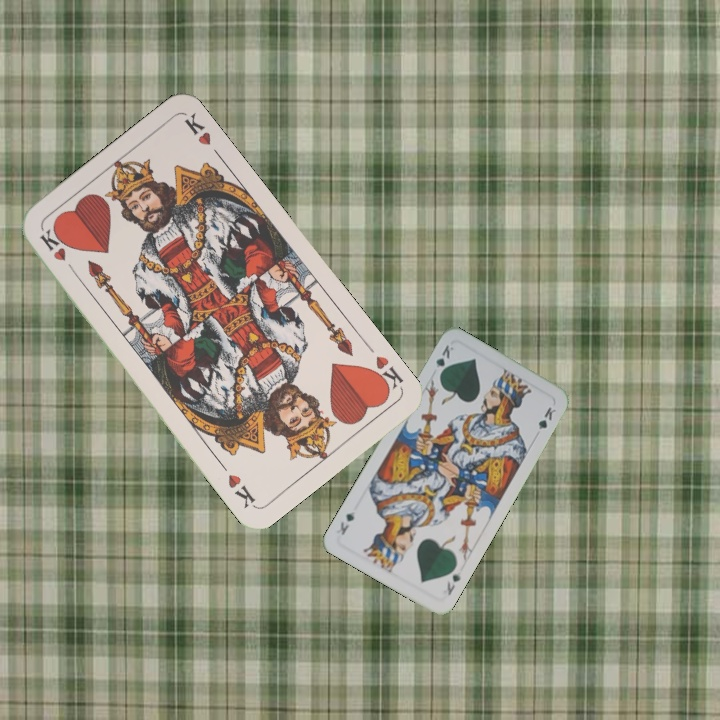GK: (432, 341, 456, 379), (443, 570, 463, 598)
HK: (35, 225, 79, 278), (364, 351, 406, 397)
